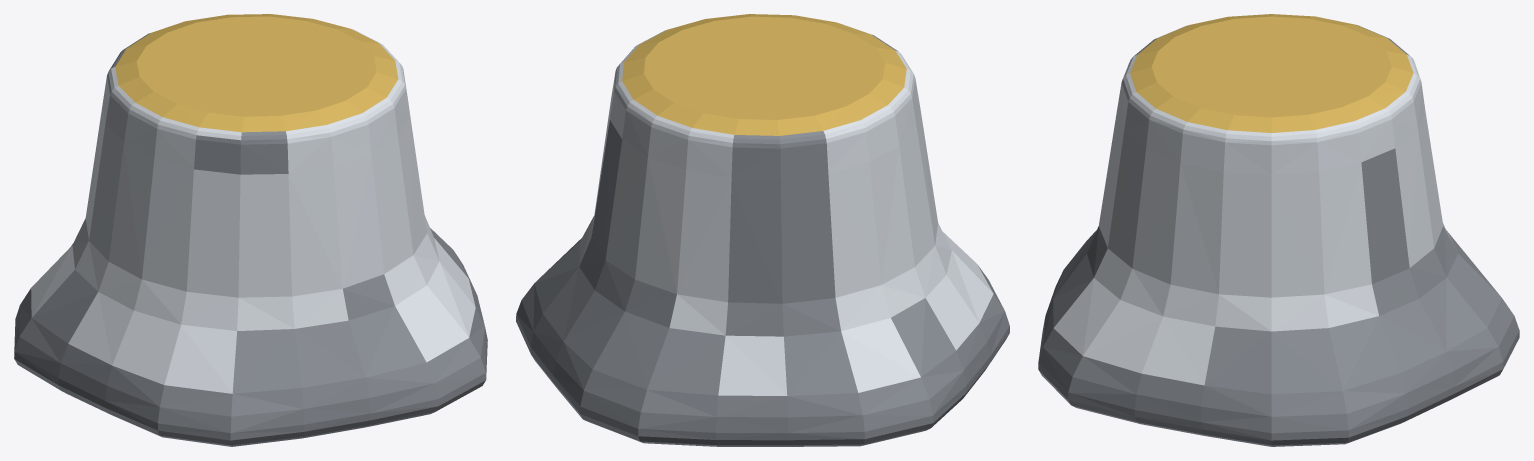
Rendered from TreeStumpFar.obj.
The picture shows the model from 3 angles, left to right: view 1: azimuth 30°, elevation 25°; view 2: azimuth 150°, elevation 25°; view 3: azimuth 270°, elevation 25°; orthographic projection.
Size of the model in its own units: 2 by 1.3 by 2.
